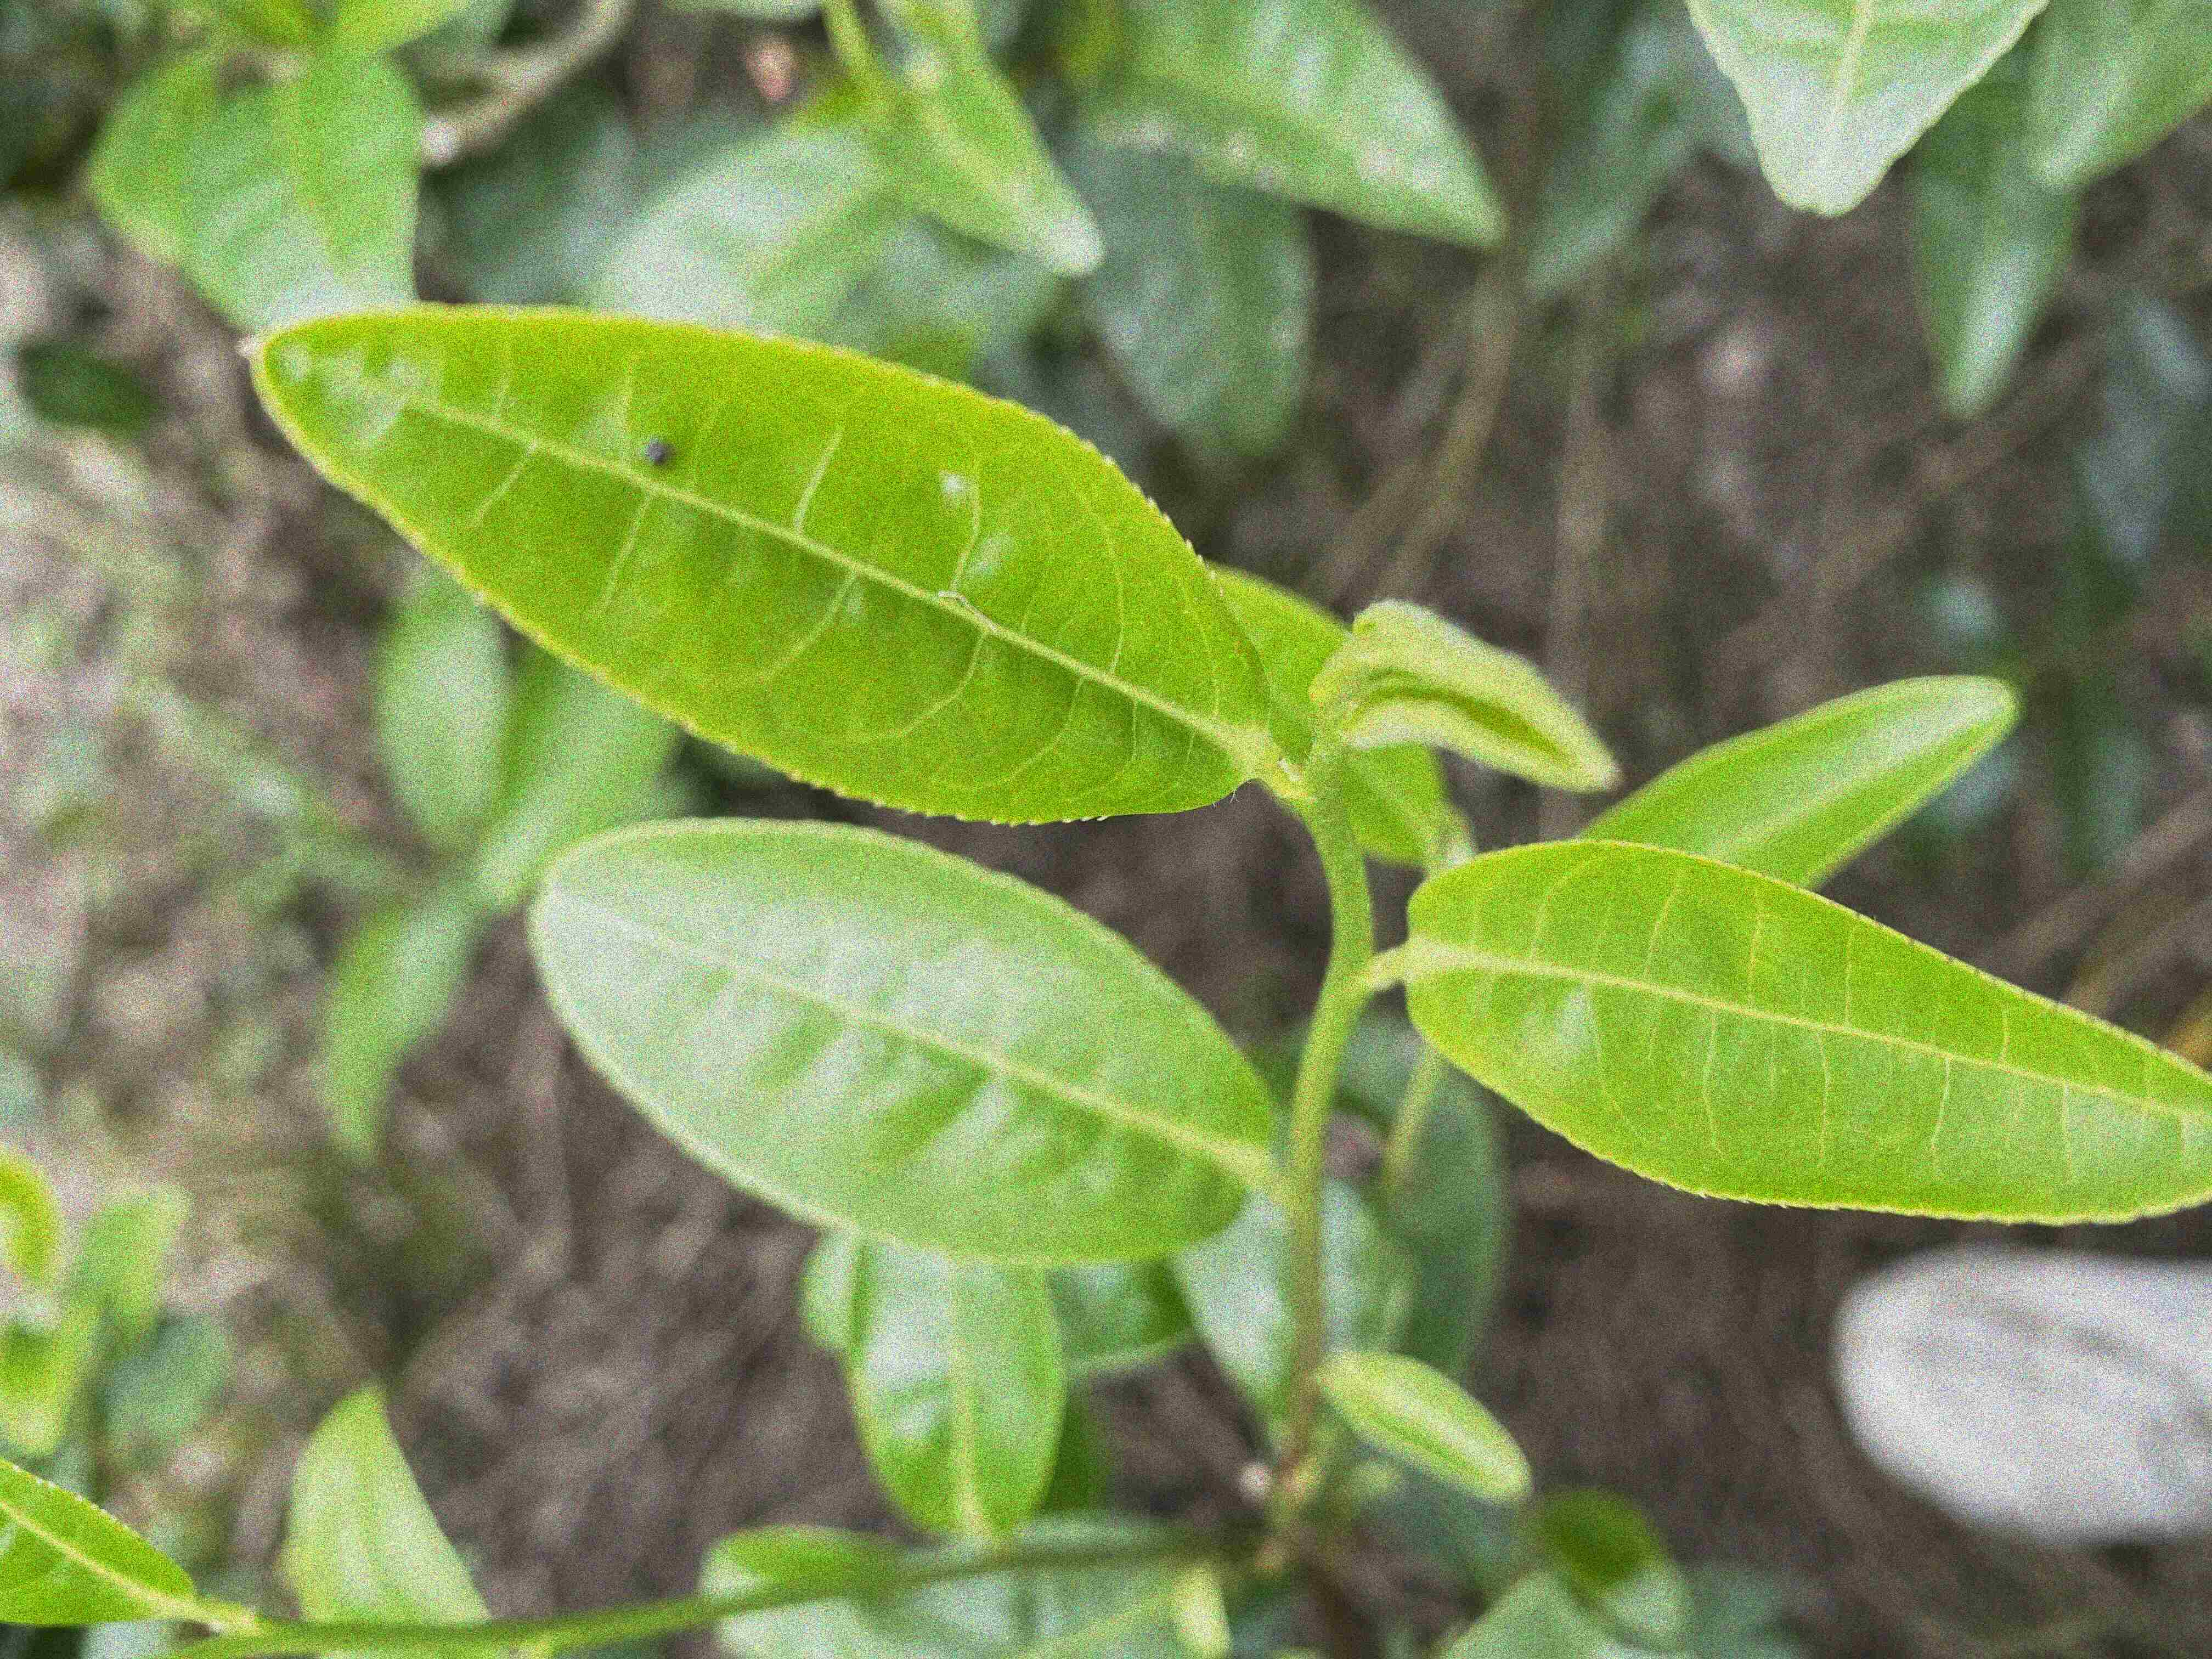healthy: (531, 819, 1282, 1263), (1404, 843, 2209, 1225)
tanju_low: (253, 305, 1275, 828)
